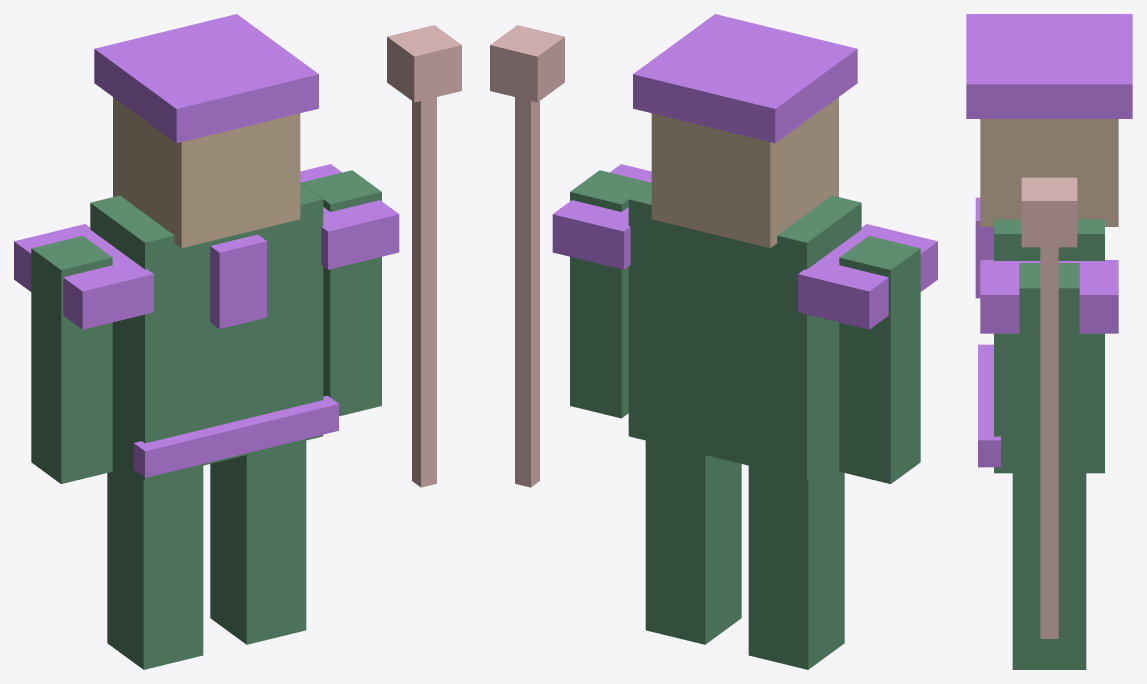
Rendered from 13_edda_gearmantle_tamer_near_transformation.glb.
3 renders of one model, left to right at view 1: azimuth 30°, elevation 25°; view 2: azimuth 150°, elevation 25°; view 3: azimuth 270°, elevation 25°, orthographic.
Visible parts, largest first — view 1: Edda Gearmantle, Tamer near Transformation; view 2: Edda Gearmantle, Tamer near Transformation; view 3: Edda Gearmantle, Tamer near Transformation.
Boxes of the visible parts, x1=… form: Edda Gearmantle, Tamer near Transformation: x1=14, y1=14, x2=461, y2=669; Edda Gearmantle, Tamer near Transformation: x1=490, y1=14, x2=937, y2=669; Edda Gearmantle, Tamer near Transformation: x1=966, y1=14, x2=1132, y2=669.
Bounding box in the file's own units: 1.07 × 1.47 × 0.381.
